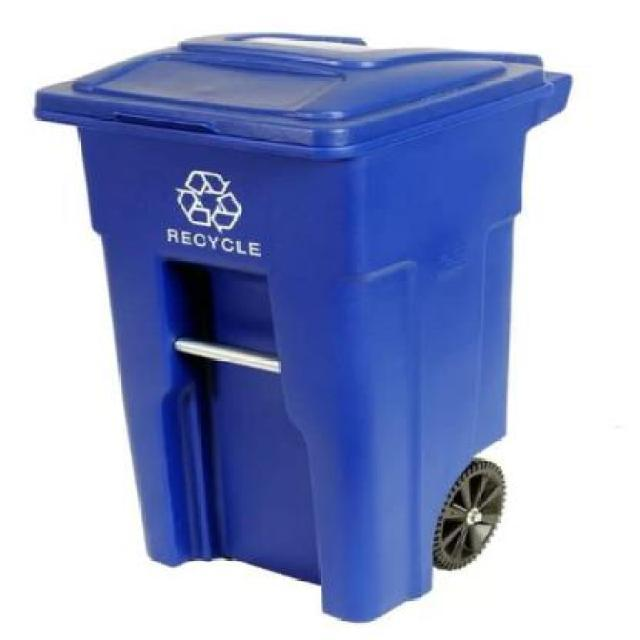garbage container: (22, 26, 588, 634)
